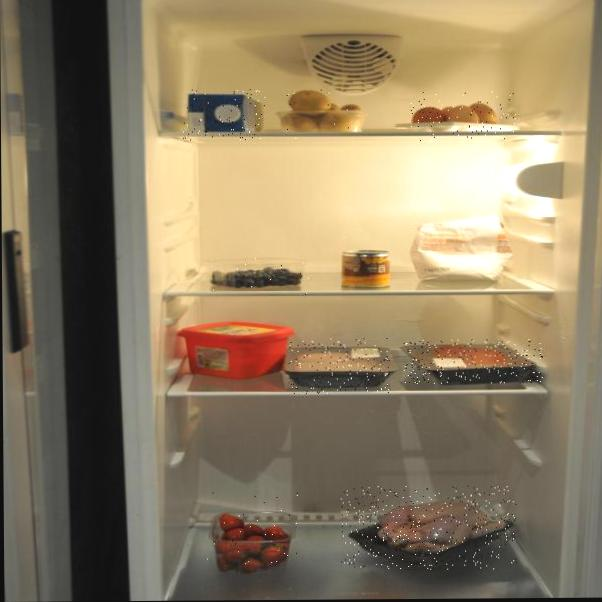chicken: (341, 485, 517, 571)
eggs: (410, 91, 517, 143)
meat: (404, 339, 543, 384), (289, 338, 390, 394)
milk: (183, 89, 270, 141), (280, 86, 363, 140)
olive: (212, 257, 310, 297)
tomatoes: (206, 490, 298, 571)
